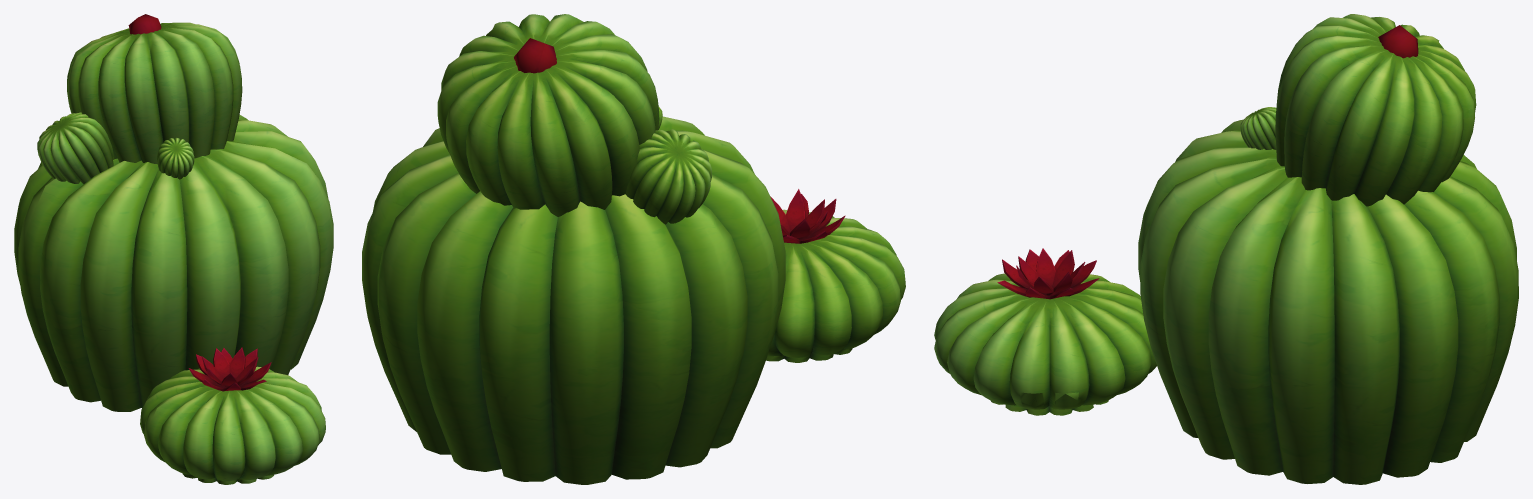
File: DE_Cactus_30.fbx
3 renders of one model, left to right at view 1: azimuth 30°, elevation 25°; view 2: azimuth 150°, elevation 25°; view 3: azimuth 270°, elevation 25°, orthographic. The views are drawn at different scales.
Parts seen in each view (by area): view 1: DE_Cactus_30; view 2: DE_Cactus_30; view 3: DE_Cactus_30.
Boxes of the visible parts, bbox=[...] form: DE_Cactus_30: bbox=[14, 14, 333, 484]; DE_Cactus_30: bbox=[362, 14, 905, 484]; DE_Cactus_30: bbox=[934, 14, 1518, 484].
Bounding box in the file's own units: 1.88 × 2.03 × 2.75.
